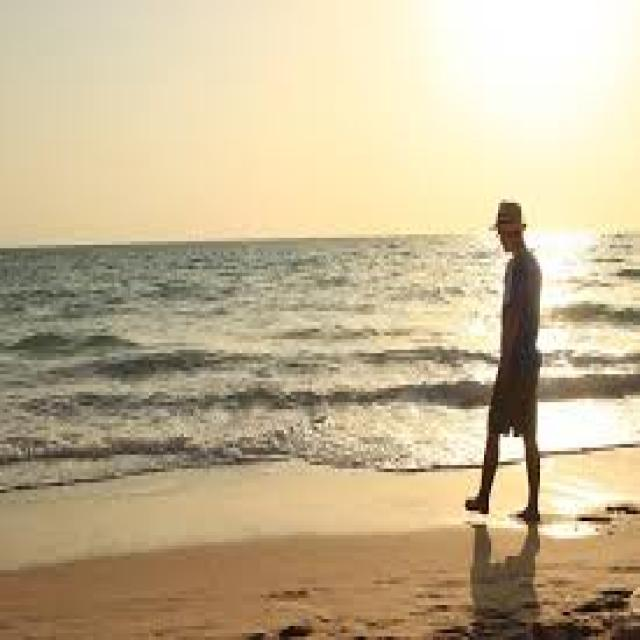nonfall: (466, 193, 552, 532)
